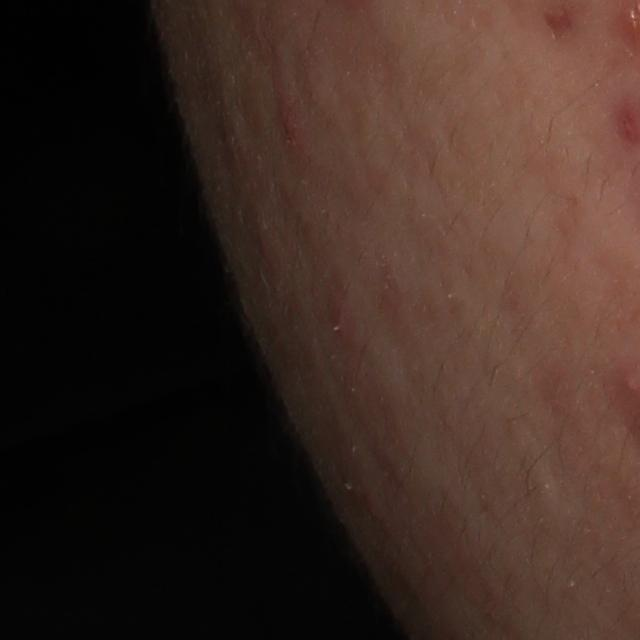atrophic_scar: (542, 8, 574, 47)
papule: (277, 100, 312, 147)
